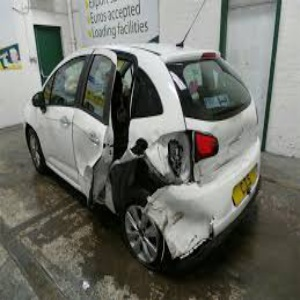bumper: (140, 179, 229, 262)
tail_lights: (151, 125, 222, 164)
